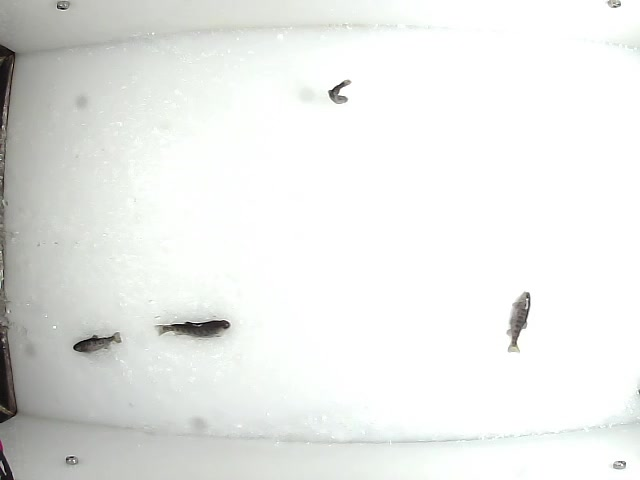fish: (152, 318, 233, 341), (505, 287, 531, 355), (70, 330, 123, 355), (326, 78, 353, 105)
